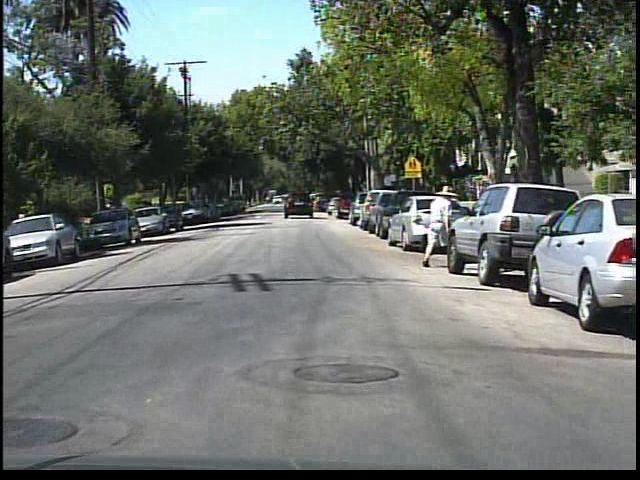person: (417, 181, 460, 270)
